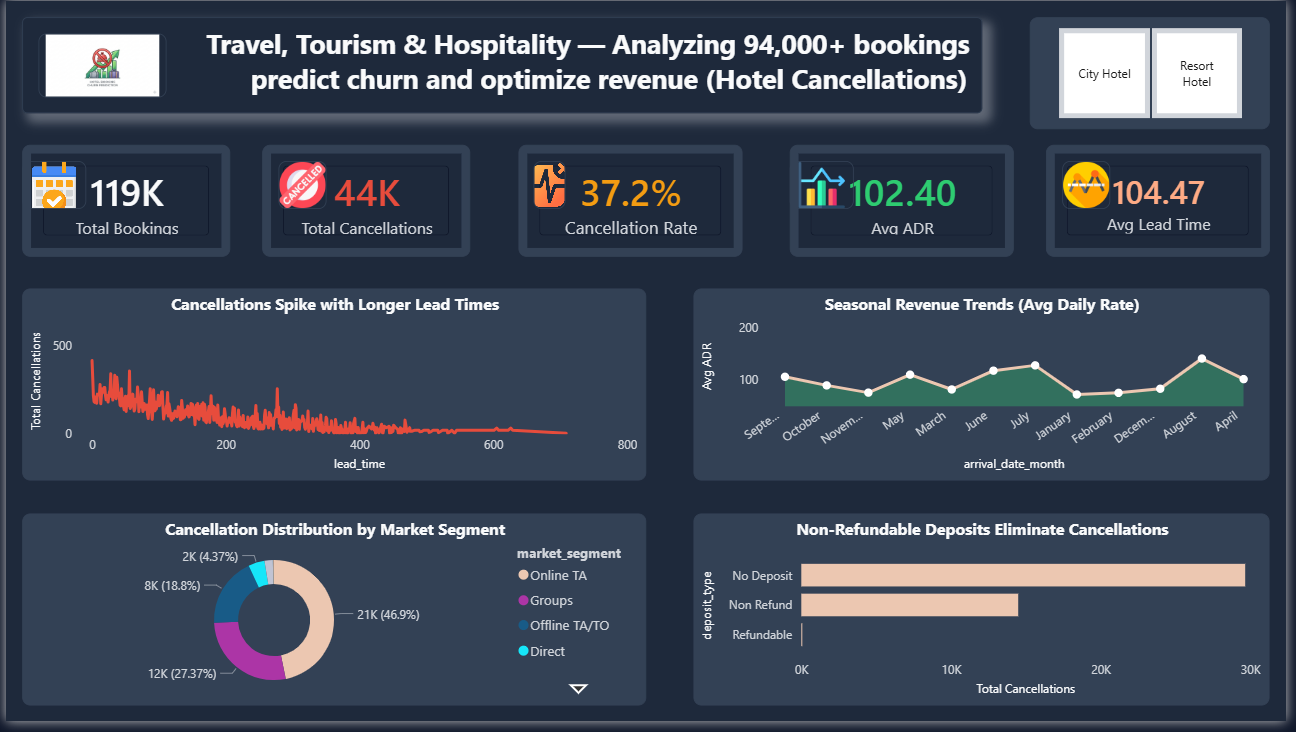

The dashboard page shown, as its layout file describes it:
{"tool":"powerbi","page":{"name":"Executive Overview","canvas":[1280,720],"ordinal":0},"visuals":[{"type":"textbox","box":[16,16,960,96],"z":0},{"type":"cardVisual","fields":{"Data":["cleaned_hotel_data_week1.Total Bookings"]},"box":[16,144,208,112],"z":1000},{"type":"cardVisual","fields":{"Data":["cleaned_hotel_data_week1.Total Cancellations"]},"box":[256,144,208,112],"z":2000},{"type":"cardVisual","fields":{"Data":["cleaned_hotel_data_week1.Cancellation Rate"]},"box":[512,144,224,112],"z":3000},{"type":"cardVisual","fields":{"Data":["cleaned_hotel_data_week1.Avg ADR"]},"box":[784,144,224,112],"z":4000},{"type":"cardVisual","fields":{"Data":["cleaned_hotel_data_week1.Avg Lead Time"]},"box":[1040,144,224,112],"z":5000},{"type":"lineChart","title":"Cancellations Spike with Longer Lead Times","fields":{"Category":["cleaned_hotel_data_week1.lead_time"],"Y":["cleaned_hotel_data_week1.Total Cancellations"]},"box":[16,288,624,192],"z":6000},{"type":"donutChart","title":"Cancellation Distribution by Market Segment","fields":{"Category":["cleaned_hotel_data_week1.market_segment"],"Y":["cleaned_hotel_data_week1.Total Cancellations"]},"box":[16,512,624,192],"z":7000},{"type":"areaChart","title":"Seasonal Revenue Trends (Avg Daily Rate)","fields":{"Category":["cleaned_hotel_data_week1.arrival_date_month"],"Y":["cleaned_hotel_data_week1.Avg ADR"]},"box":[688,288,576,192],"z":8000},{"type":"clusteredBarChart","title":"Non-Refundable Deposits Eliminate Cancellations","fields":{"Category":["cleaned_hotel_data_week1.deposit_type"],"Y":["cleaned_hotel_data_week1.Total Cancellations"]},"box":[688,512,576,192],"z":9000},{"type":"slicer","fields":{"Values":["cleaned_hotel_data_week1.hotel"]},"box":[1024,16,240,112],"z":10000},{"type":"image","box":[272,160,48,48],"z":11000},{"type":"image","box":[528,160,32,48],"z":12000},{"type":"image","box":[16,160,64,48],"z":12001},{"type":"image","box":[784,160,64,48],"z":12002},{"type":"image","box":[1056,160,48,48],"z":12003},{"type":"image","box":[32,32,144,80],"z":12004}]}

Visuals, with their boxes in screenshot pixels (x1, y1, x2, y2), scaled from the page's 1280x720 canvas onto the 1296x732 screenshot:
textbox: [left=16, top=16, right=988, bottom=114]
cardVisual - cleaned_hotel_data_week1.Total Bookings: [left=16, top=146, right=227, bottom=260]
cardVisual - cleaned_hotel_data_week1.Total Cancellations: [left=259, top=146, right=470, bottom=260]
cardVisual - cleaned_hotel_data_week1.Cancellation Rate: [left=518, top=146, right=745, bottom=260]
cardVisual - cleaned_hotel_data_week1.Avg ADR: [left=794, top=146, right=1021, bottom=260]
cardVisual - cleaned_hotel_data_week1.Avg Lead Time: [left=1053, top=146, right=1280, bottom=260]
"Cancellations Spike with Longer Lead Times" lineChart: [left=16, top=293, right=648, bottom=488]
"Cancellation Distribution by Market Segment" donutChart: [left=16, top=521, right=648, bottom=716]
"Seasonal Revenue Trends (Avg Daily Rate)" areaChart: [left=697, top=293, right=1280, bottom=488]
"Non-Refundable Deposits Eliminate Cancellations" clusteredBarChart: [left=697, top=521, right=1280, bottom=716]
slicer - cleaned_hotel_data_week1.hotel: [left=1037, top=16, right=1280, bottom=130]
image: [left=275, top=163, right=324, bottom=211]
image: [left=535, top=163, right=567, bottom=211]
image: [left=16, top=163, right=81, bottom=211]
image: [left=794, top=163, right=859, bottom=211]
image: [left=1069, top=163, right=1118, bottom=211]
image: [left=32, top=33, right=178, bottom=114]
